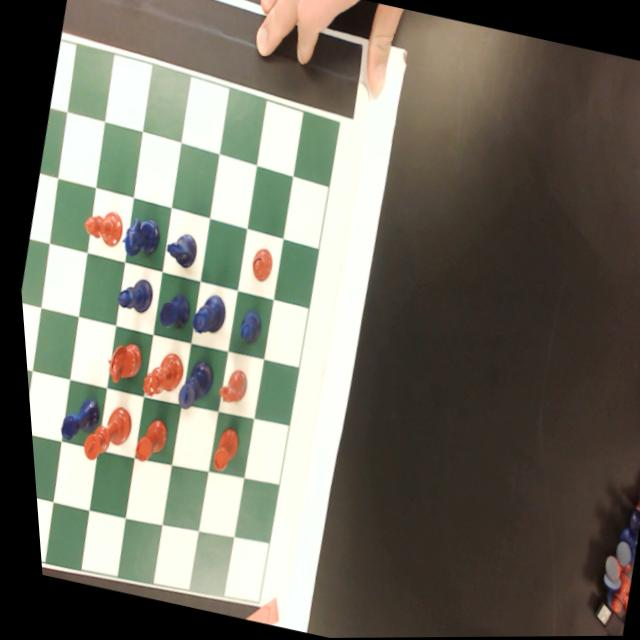B: (106, 271, 153, 316), (228, 305, 260, 348)
K: (164, 350, 215, 417)
N: (110, 209, 161, 263), (155, 223, 198, 269)
Q: (180, 288, 226, 339)
R: (47, 392, 98, 447), (148, 287, 189, 332)
b: (74, 204, 123, 249), (241, 244, 272, 286)
k: (70, 397, 131, 467)
n: (95, 335, 142, 388), (207, 364, 245, 406)
q: (130, 346, 181, 403)
r: (123, 412, 165, 465), (200, 424, 235, 474)
